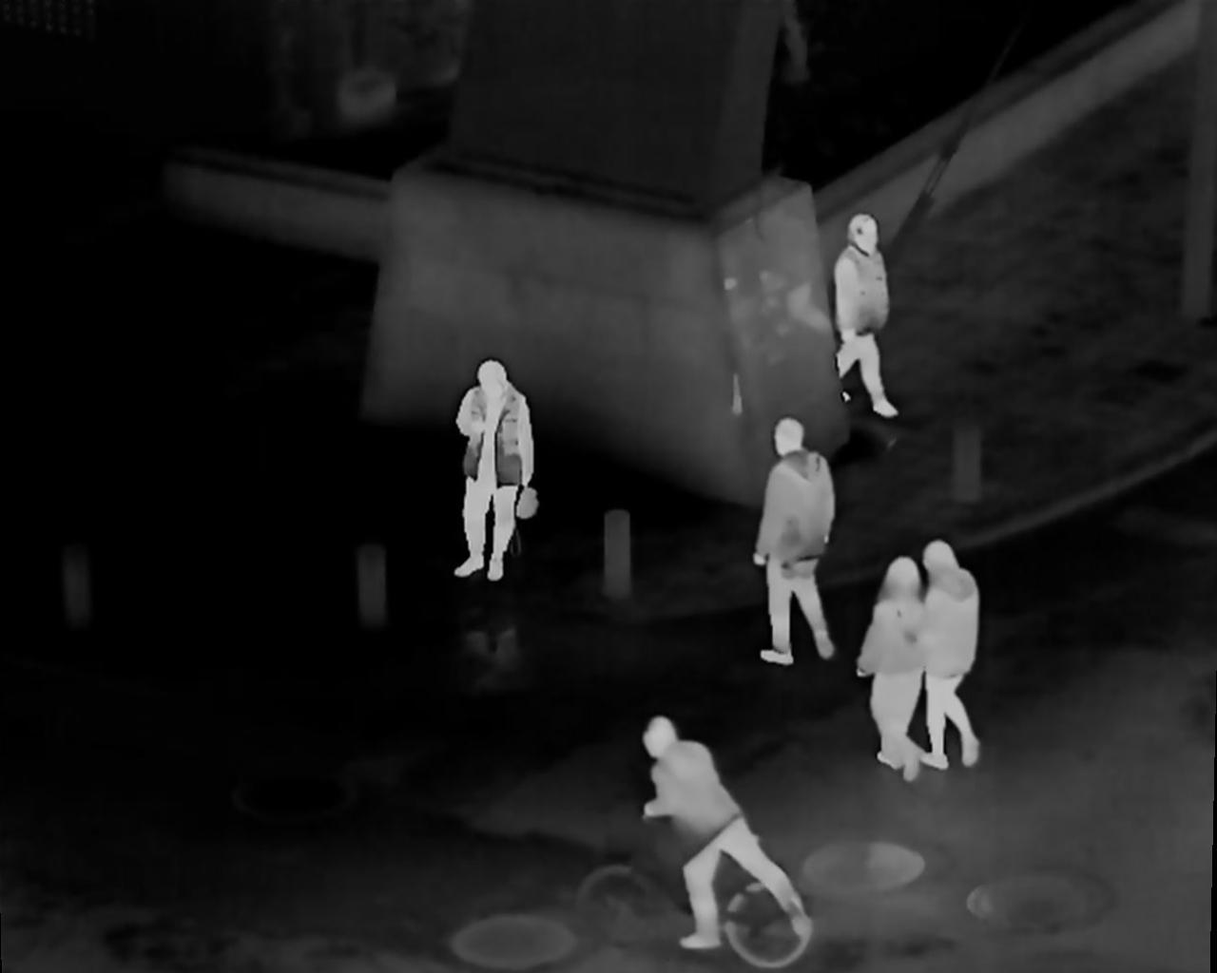person: (638, 718, 805, 959), (746, 417, 837, 671), (440, 361, 536, 580), (907, 533, 985, 765), (852, 551, 923, 784), (828, 215, 897, 421)
